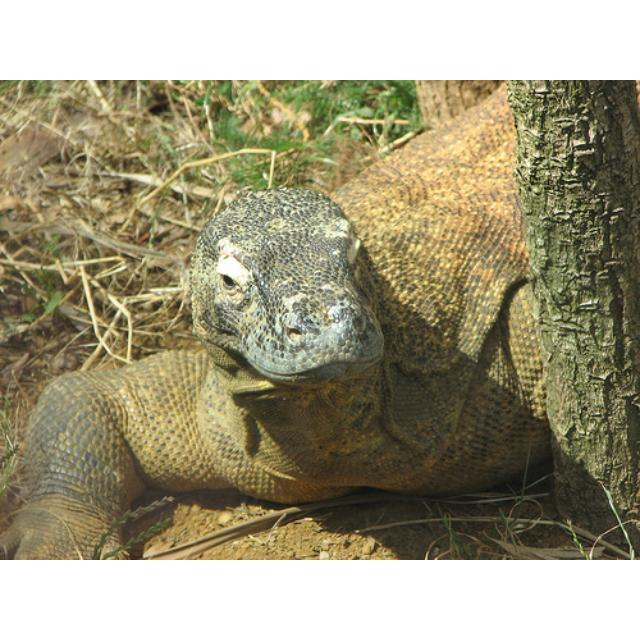KomodoDragon: (1, 80, 550, 556)
